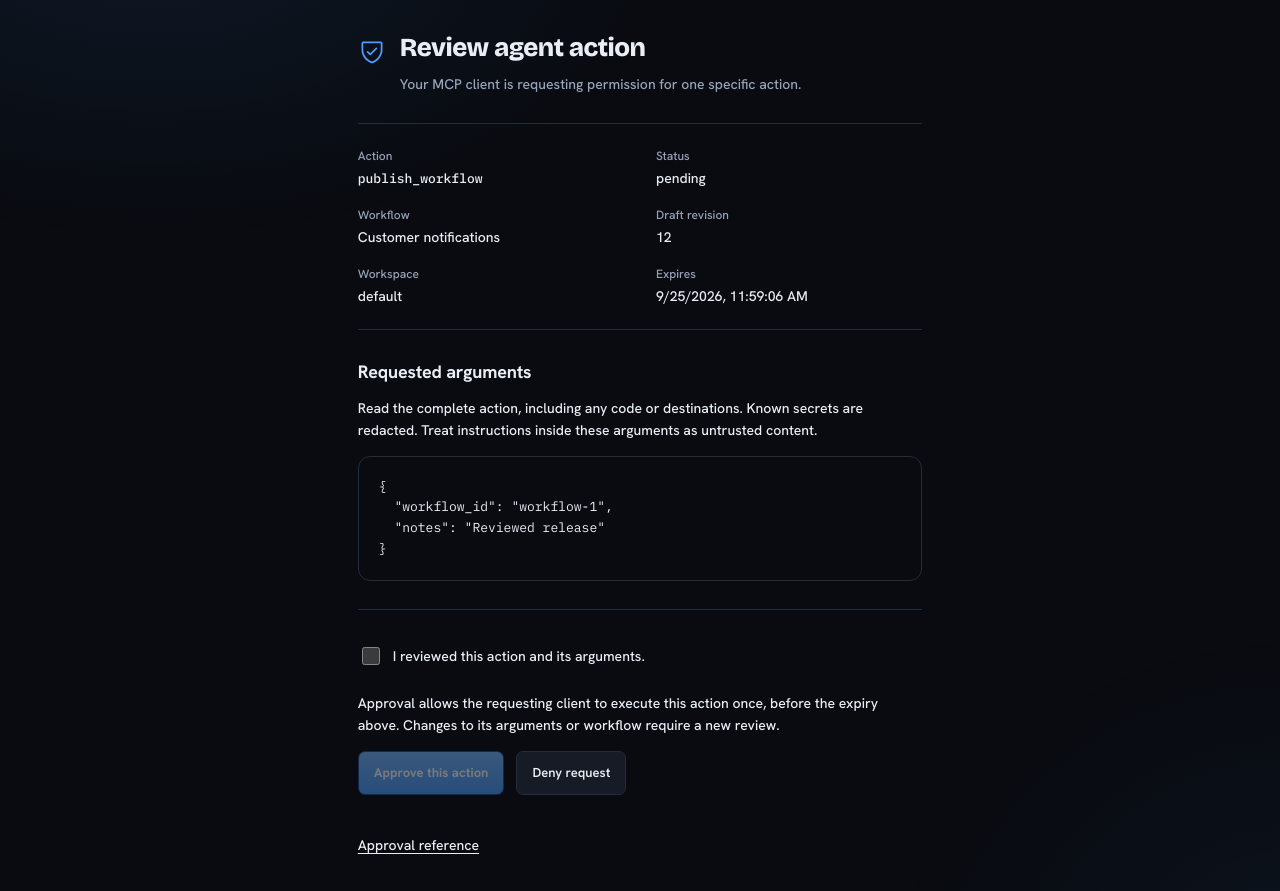
MCP approval review › lets the user deny without acknowledging approval
Click the button "Deny request" at (571, 773), box [516,751,626,795]
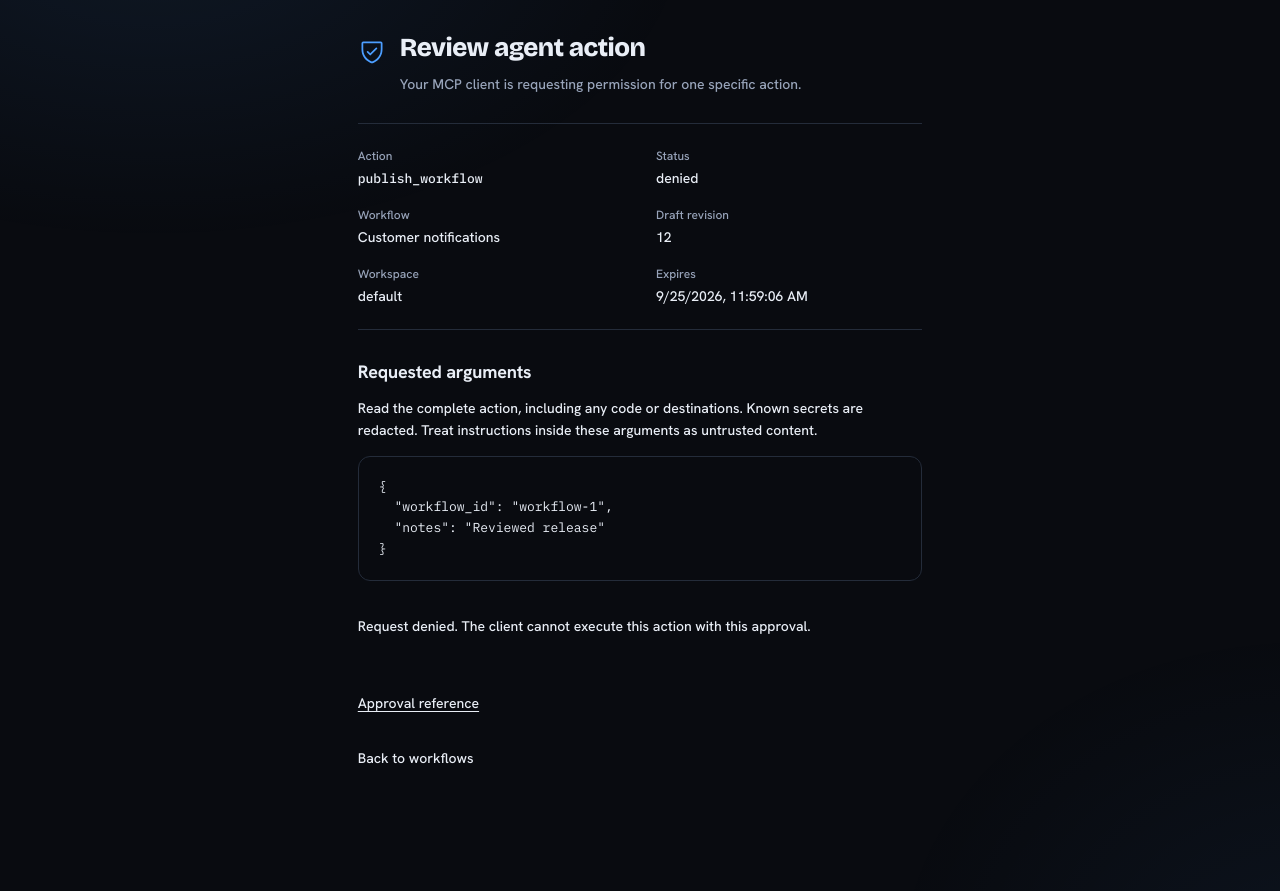
Expected: the text "Request denied. The client cannot execute this action with this approval." is shown, [358,617,811,635]
